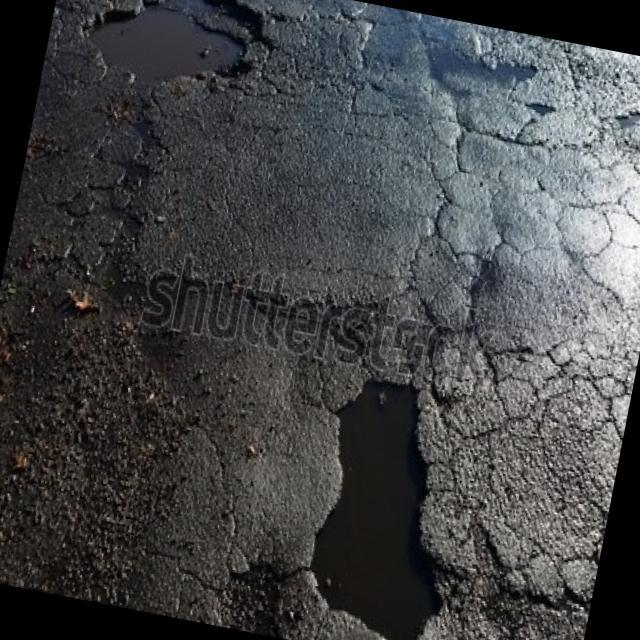Pothole: (292, 340, 493, 640), (79, 0, 261, 100)
